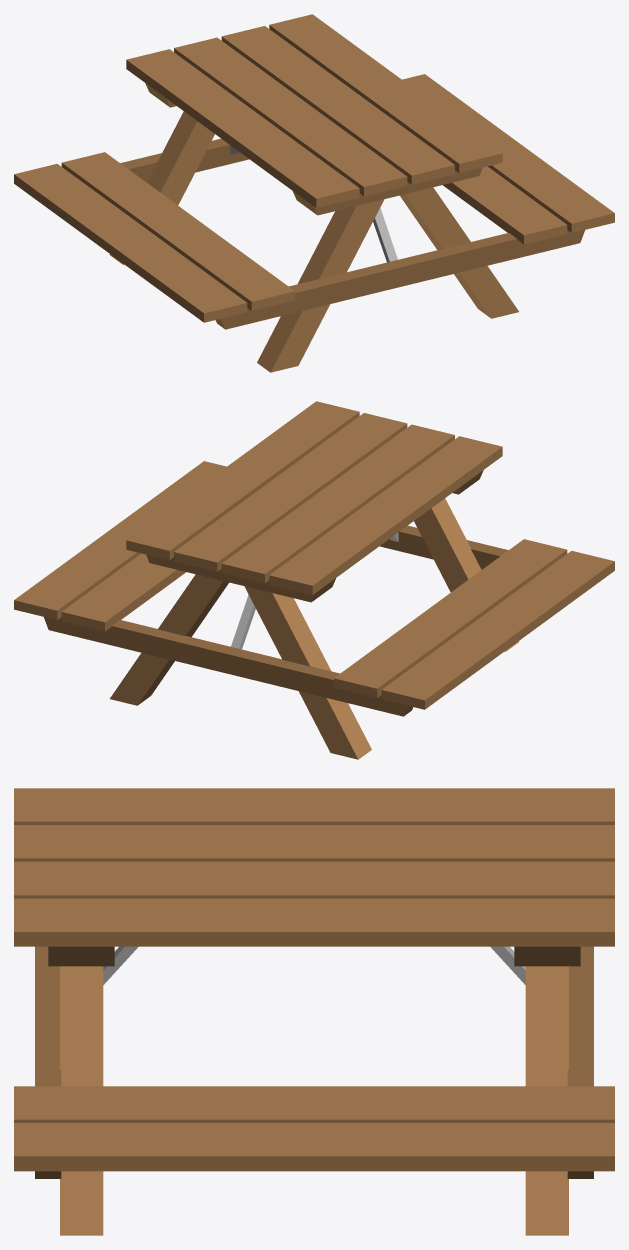
File: BancoPicnic.fbx
The picture shows the model from 3 angles, top to bottom: view 1: azimuth 30°, elevation 25°; view 2: azimuth 150°, elevation 25°; view 3: azimuth 270°, elevation 25°; orthographic projection. The views are drawn at different scales.
Visible parts, largest first — view 1: Cube, Cube.001, Cube.008, Cube.009, Cube.003, Cube.004, Cube.006, Cube.005, Cube.010, Cube.011; view 2: Cube, Cube.001, Cube.008, Cube.010, Cube.006, Cube.007, Cube.003, Cube.002, Cube.009, Cube.012; view 3: Cube, Cube.008, Cube.004, Cube.007, Cube.009, Cube.010, Cube.002, Cube.005.
Part boxes in pixels (bbox=[...]): Cube: bbox=[126, 14, 502, 207]; Cube.001: bbox=[14, 152, 294, 322]; Cube.008: bbox=[402, 74, 614, 244]; Cube.009: bbox=[215, 230, 584, 329]; Cube.003: bbox=[257, 199, 384, 372]; Cube.004: bbox=[399, 187, 518, 318]; Cube.006: bbox=[109, 111, 214, 264]; Cube.005: bbox=[293, 167, 482, 215]; Cube.010: bbox=[120, 138, 248, 182]; Cube.011: bbox=[373, 207, 397, 262]; Cube: bbox=[126, 401, 502, 594]; Cube.001: bbox=[334, 539, 614, 709]; Cube.008: bbox=[14, 461, 226, 631]; Cube.010: bbox=[44, 617, 413, 716]; Cube.006: bbox=[244, 586, 371, 759]; Cube.007: bbox=[110, 574, 229, 705]; Cube.003: bbox=[414, 498, 519, 651]; Cube.002: bbox=[146, 554, 335, 602]; Cube.009: bbox=[380, 525, 508, 569]; Cube.012: bbox=[231, 594, 255, 649]; Cube: bbox=[14, 788, 614, 946]; Cube.008: bbox=[14, 1086, 614, 1171]; Cube.004: bbox=[60, 966, 103, 1235]; Cube.007: bbox=[525, 966, 568, 1235]; Cube.009: bbox=[35, 946, 61, 1178]; Cube.010: bbox=[567, 946, 593, 1178]; Cube.002: bbox=[514, 946, 580, 966]; Cube.005: bbox=[48, 946, 114, 966].
Bounding box in the file's own units: 1897 × 781 × 1520.
